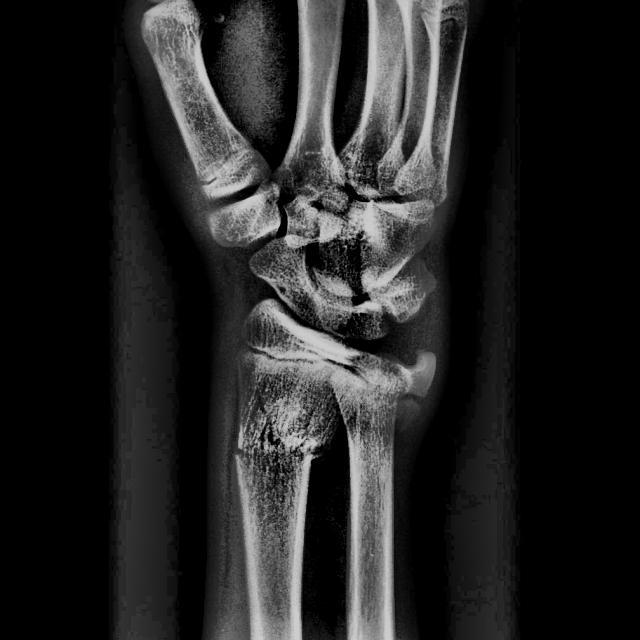fracture: (234, 440, 330, 468), (252, 388, 275, 451)
